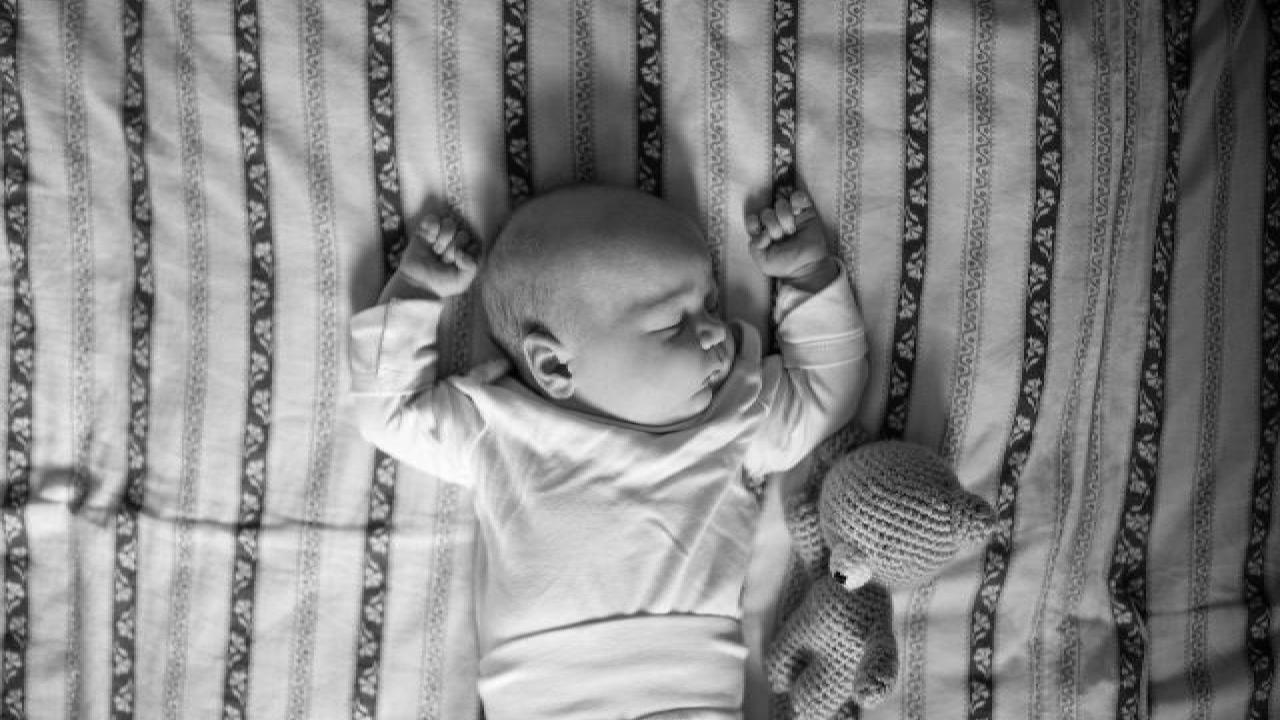hand: (740, 184, 838, 280), (396, 211, 492, 302)
